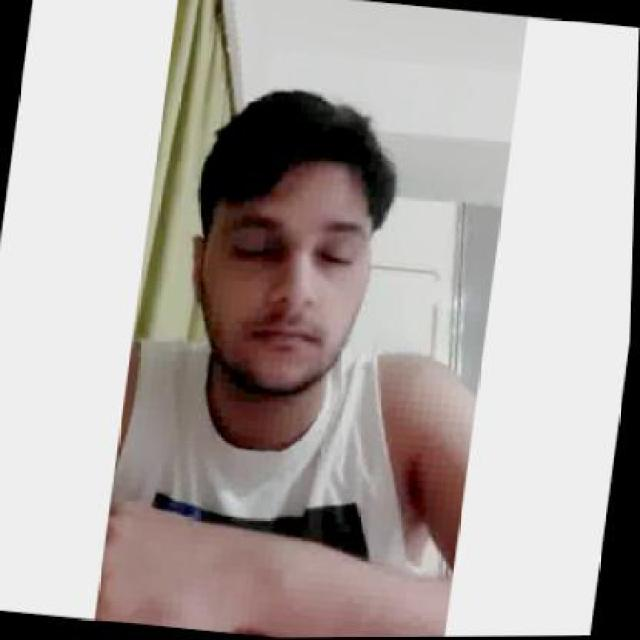inattentif: (172, 75, 402, 414)
